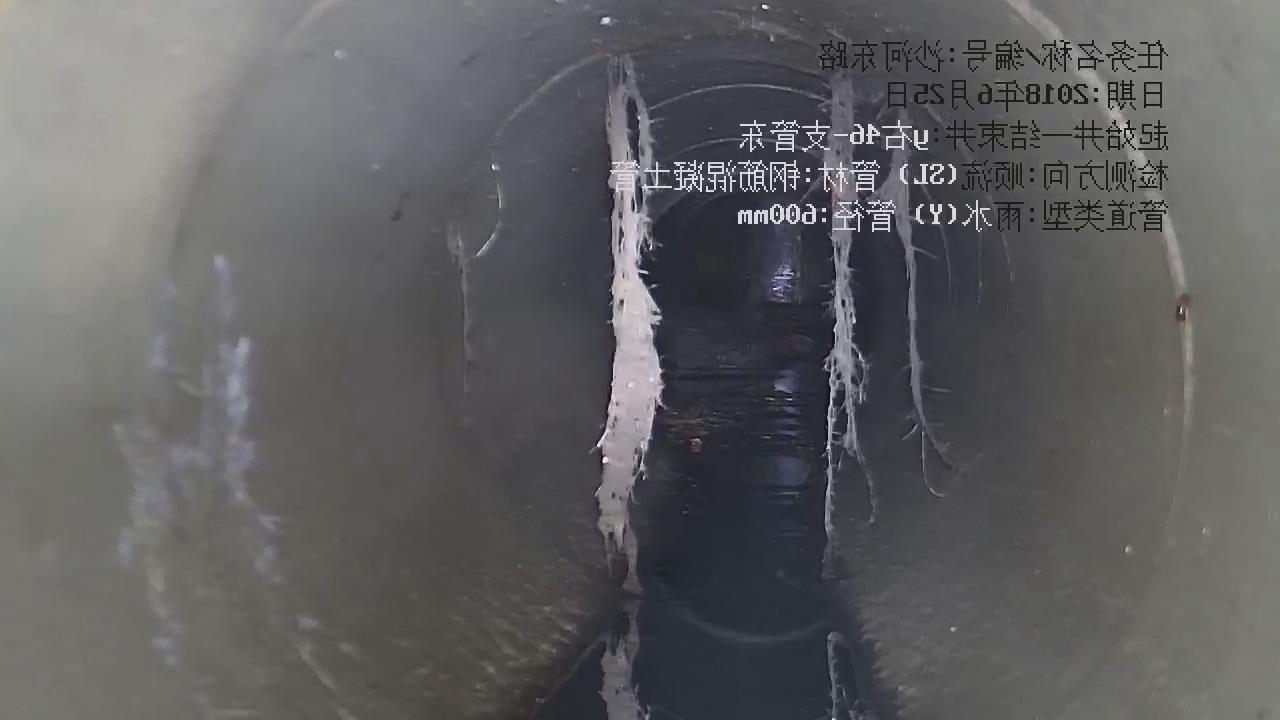SG: (823, 72, 942, 539), (596, 56, 663, 584)
